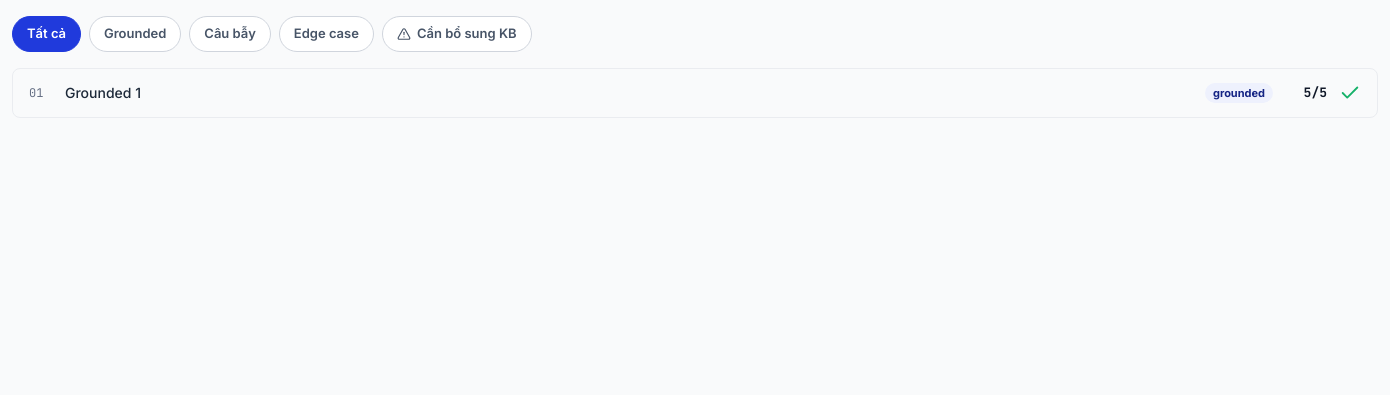
EvalTestList — sửa câu trả lời › ô nhập mở ra mang sẵn câu trả lời hiện tại
Click the button "01 Grounded 1 grounded 5/5".
click(103, 92)  # box [13,69,1377,117]
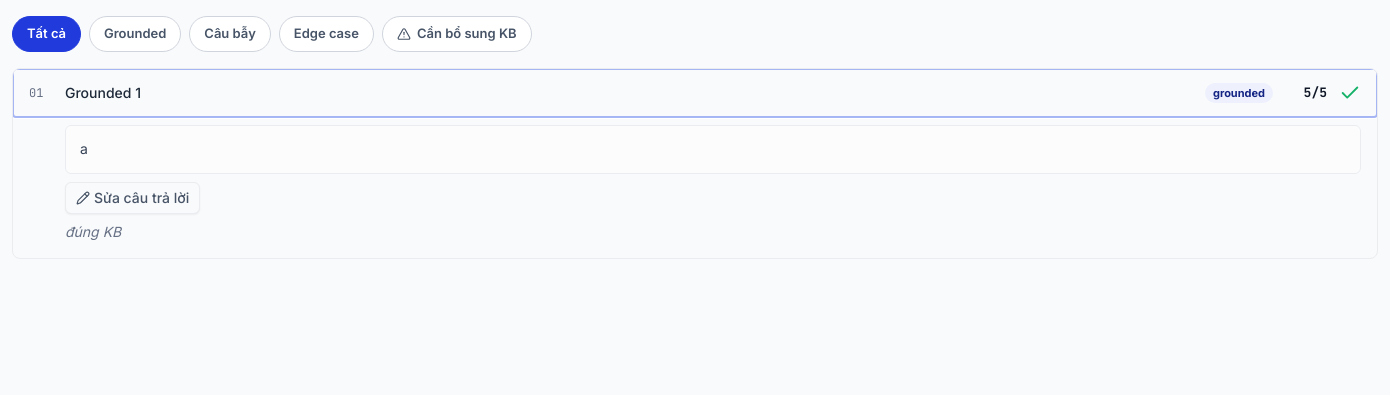
Click the button "Sửa câu trả lời".
click(133, 198)  # box [65,182,200,214]
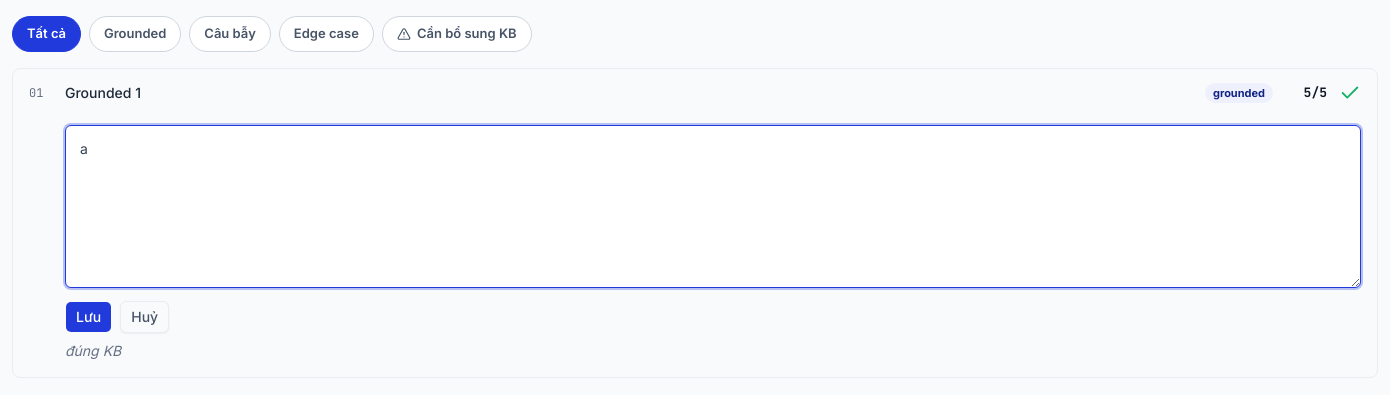
Now the text box holds "a", box [65,125,1361,288]
